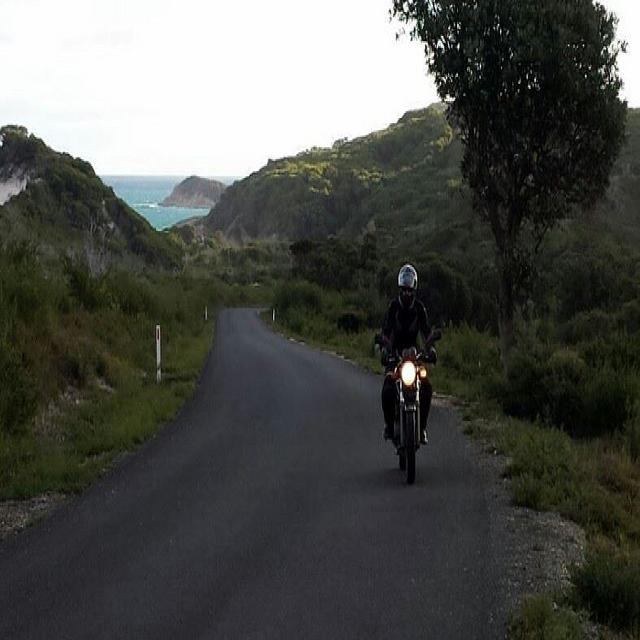motor: (376, 332, 443, 484)
